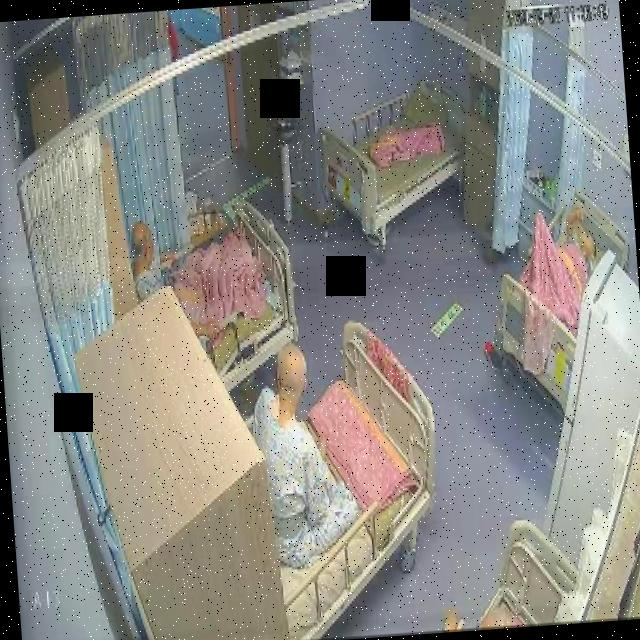bed: (233, 319, 449, 640), (484, 188, 638, 412), (154, 202, 298, 394), (318, 72, 472, 240)
lie: (523, 190, 600, 296)
patient: (242, 338, 350, 570), (127, 216, 218, 351), (562, 193, 598, 270)
sit: (242, 336, 349, 568), (128, 212, 256, 352)
